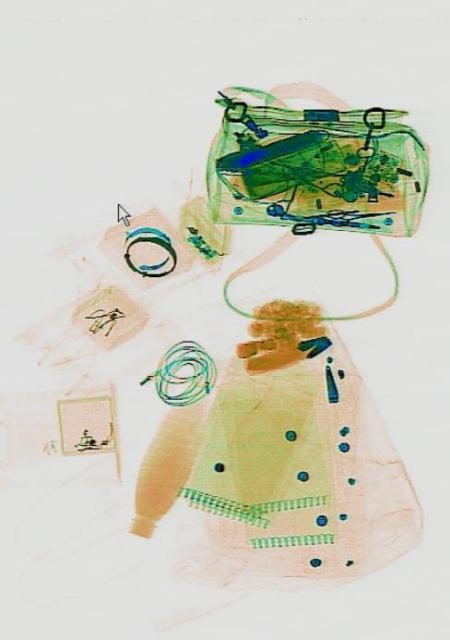Scissors: (324, 200, 397, 228)
